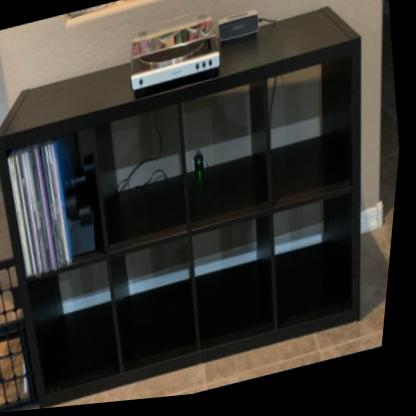Shelf: (0, 6, 408, 416)
